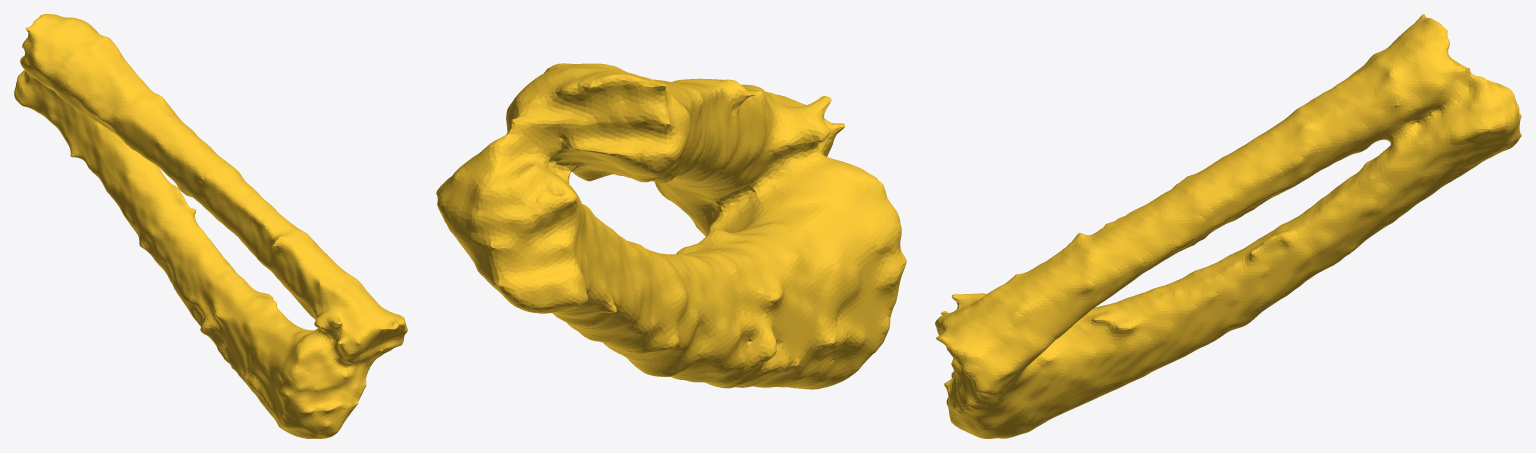
Rendered from ulradR.glb.
3 views of the same model, side by side, from view 1: azimuth 30°, elevation 25°; view 2: azimuth 150°, elevation 25°; view 3: azimuth 270°, elevation 25° (orthographic). The views are drawn at different scales.
Parts seen in each view (by area): view 1: ulradR; view 2: ulradR; view 3: ulradR.
Boxes of the visible parts, x1,y1,x2,y2 form: ulradR: [14, 14, 407, 438]; ulradR: [436, 63, 906, 389]; ulradR: [935, 14, 1521, 438].
Size of the model in its own units: 0.00554 by 0.00821 by 0.012.
